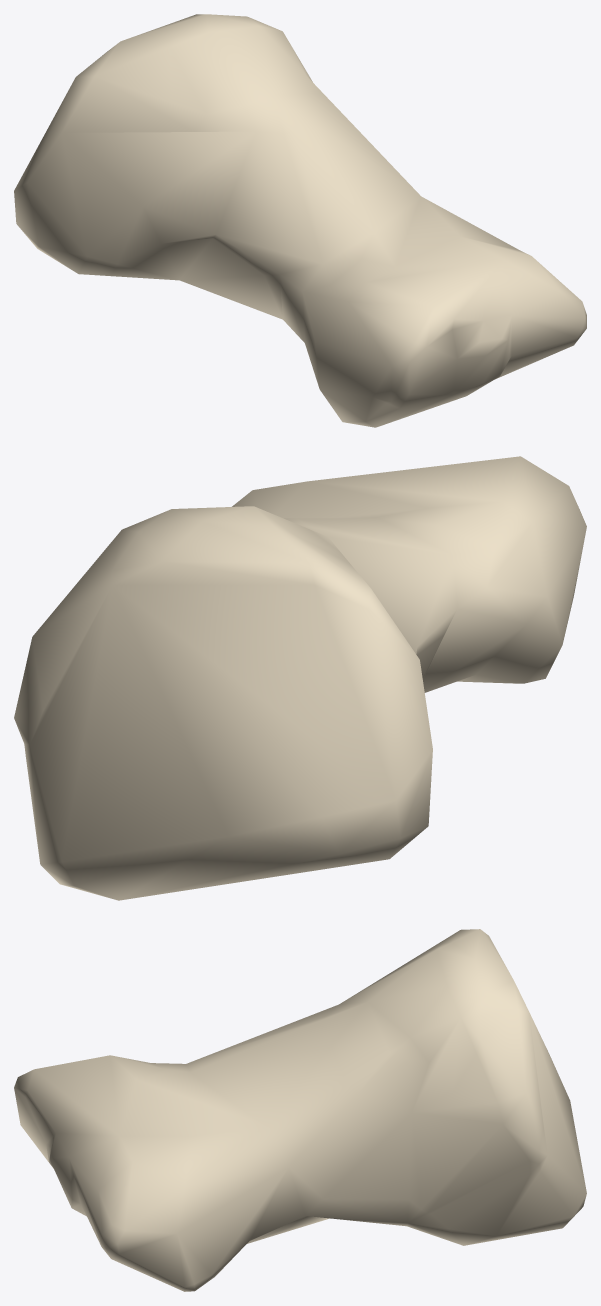
The model's file is middle-phalanx-of-second-finger-of-foot-l.glb.
3 renders of one model, top to bottom at view 1: azimuth 30°, elevation 25°; view 2: azimuth 150°, elevation 25°; view 3: azimuth 270°, elevation 25°, orthographic. The views are drawn at different scales.
Visible parts, largest first — view 1: Middle phalanx of second finger of foot.l; view 2: Middle phalanx of second finger of foot.l; view 3: Middle phalanx of second finger of foot.l.
Part boxes in pixels (x1,y1,x2,y2): Middle phalanx of second finger of foot.l: (14,14,586,427); Middle phalanx of second finger of foot.l: (14,456,586,900); Middle phalanx of second finger of foot.l: (14,929,586,1291).
Size of the model in its own units: 0.0123 by 0.00908 by 0.0176.
